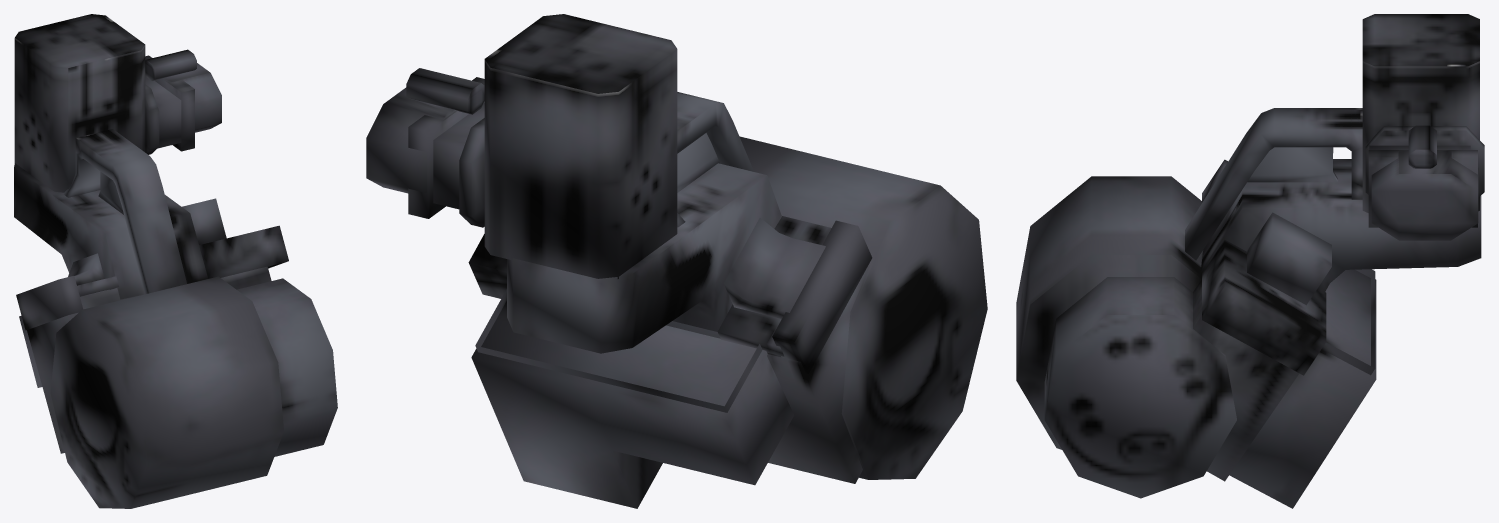
Rendered from r_clav.dae.
3 views of the same model, side by side, from view 1: azimuth 30°, elevation 25°; view 2: azimuth 150°, elevation 25°; view 3: azimuth 270°, elevation 25° (orthographic). The views are drawn at different scales.
Visible parts, largest first — view 1: r_clav; view 2: r_clav; view 3: r_clav.
Boxes of the visible parts, <box> form: r_clav: <box>14,14,337,508</box>; r_clav: <box>366,14,987,508</box>; r_clav: <box>1016,14,1484,508</box>.
Bounding box in the file's own units: 0.1202 × 0.1828 × 0.1793.
1 material, 1 textured.
